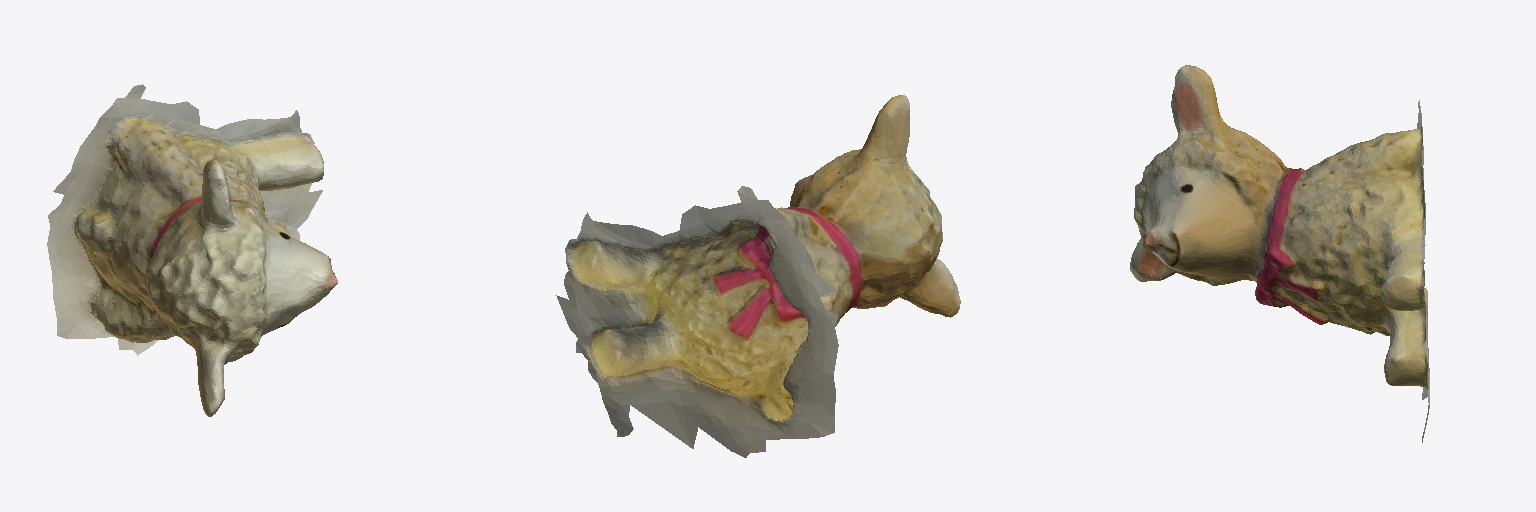
3 renders of one model, left to right at view 1: azimuth 30°, elevation 25°; view 2: azimuth 150°, elevation 25°; view 3: azimuth 270°, elevation 25°, orthographic.
Size of the model in its own units: 15.76 by 15.96 by 14.66.
Materials: 3 (2 with a texture image).